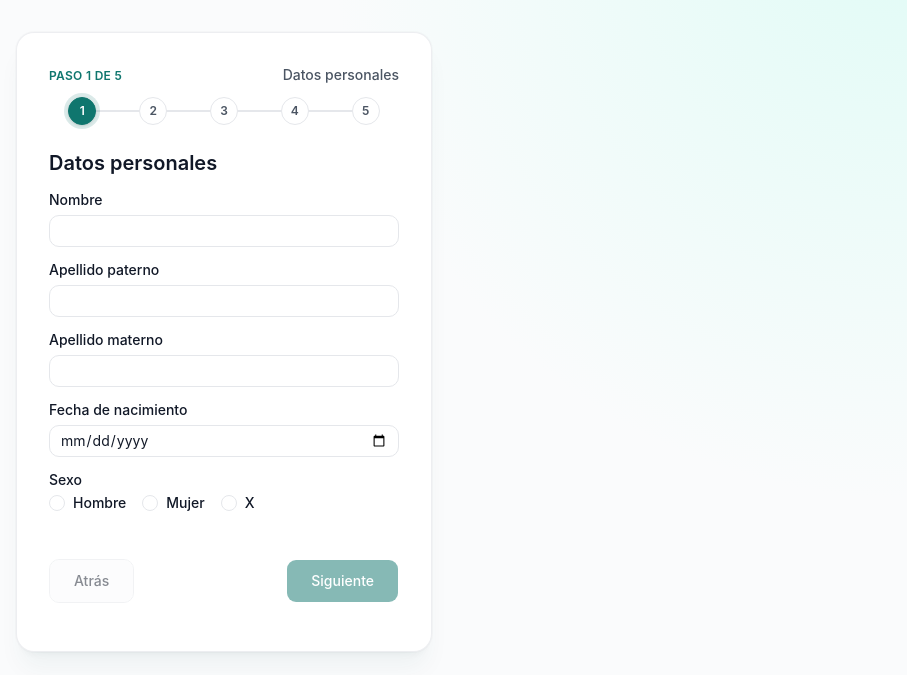
Test: PreRegistroWizard › advances to Contacto and moves focus to its heading once Personal step is valid (FORM-08)
Step 1. Type "Juan" into the field labelled "Nombre" → (224,231), box [49,215,399,247]
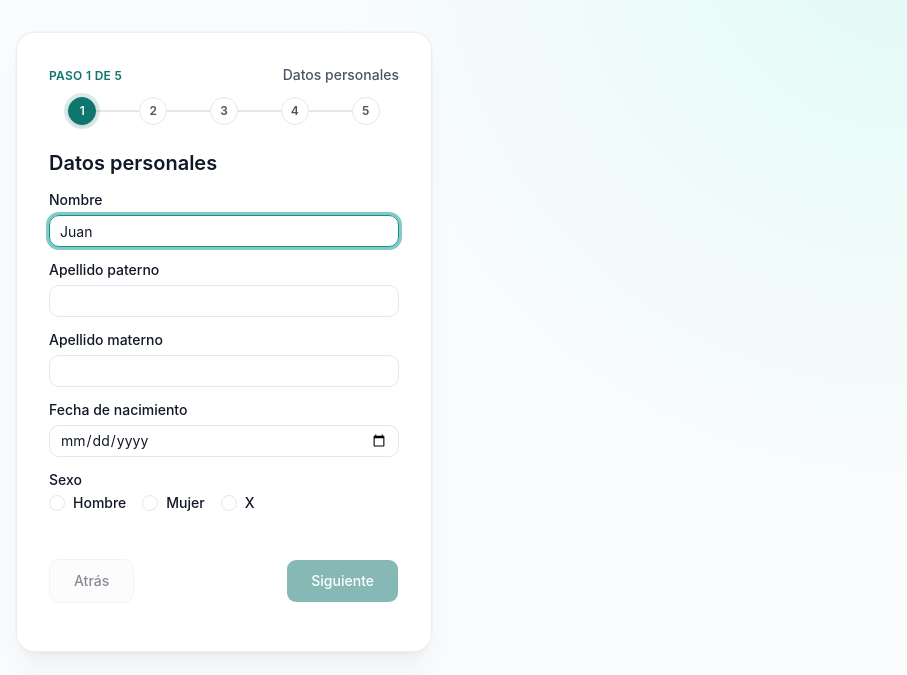
Step 2. Type "Pérez" into the field labelled "Apellido paterno" → (224,301), box [49,285,399,317]
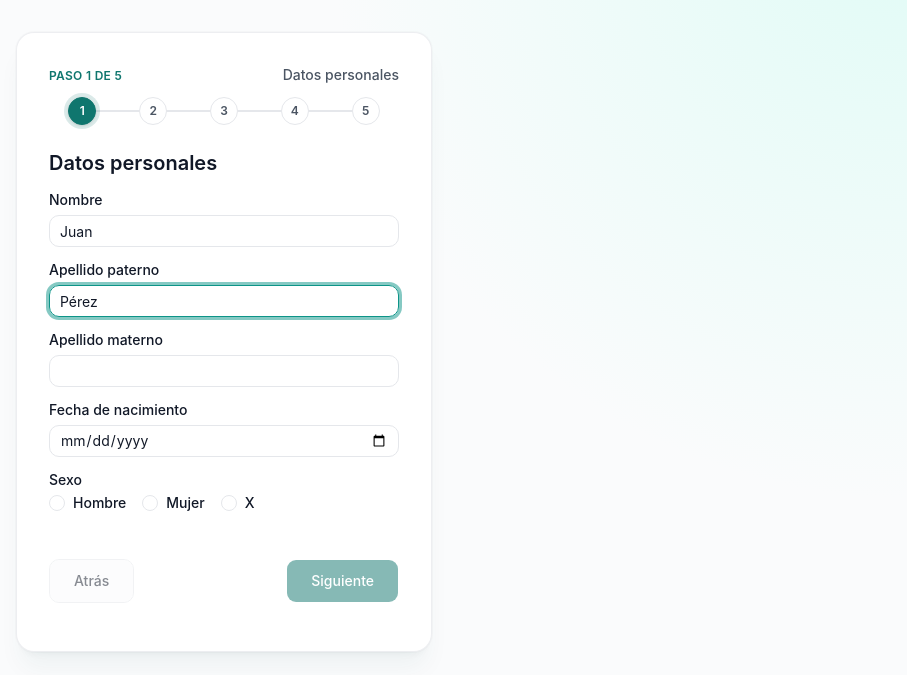
Step 3. Type "García" into the field labelled "Apellido materno" → (224,371), box [49,355,399,387]
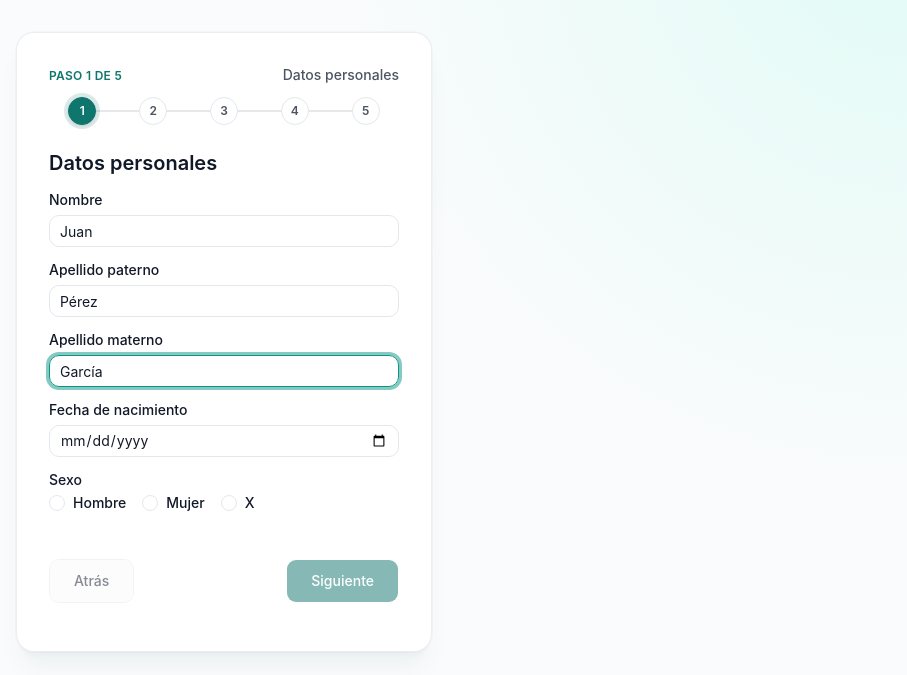
Step 4. Type "1990-05-15" into the date field labelled "Fecha de nacimiento" → (224,441), box [49,425,399,457]
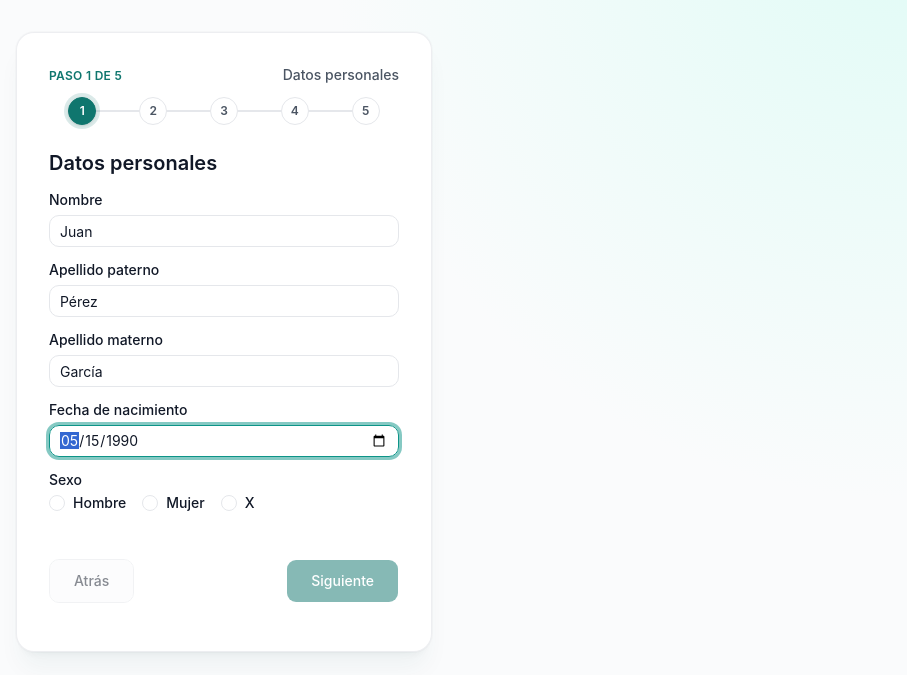
Step 5. Click the radio button named "Hombre" next to "Hombre" → (57,503), box [49,495,65,511]
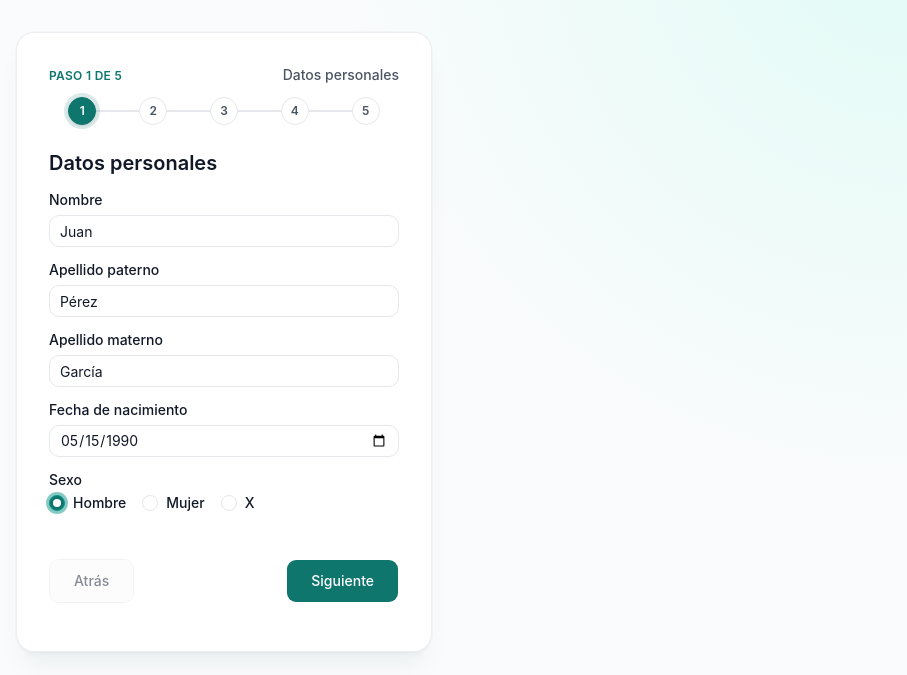
Step 6. Click the button "Siguiente" → (343,581), box [286,559,399,603]
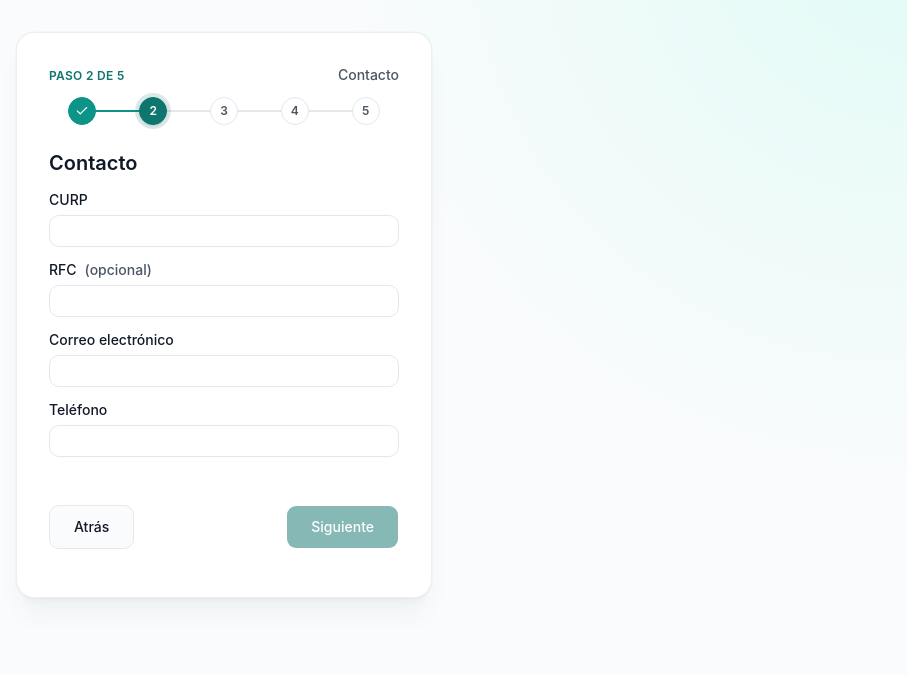
Check: the heading "Contacto" is shown, box [49,151,138,175]
